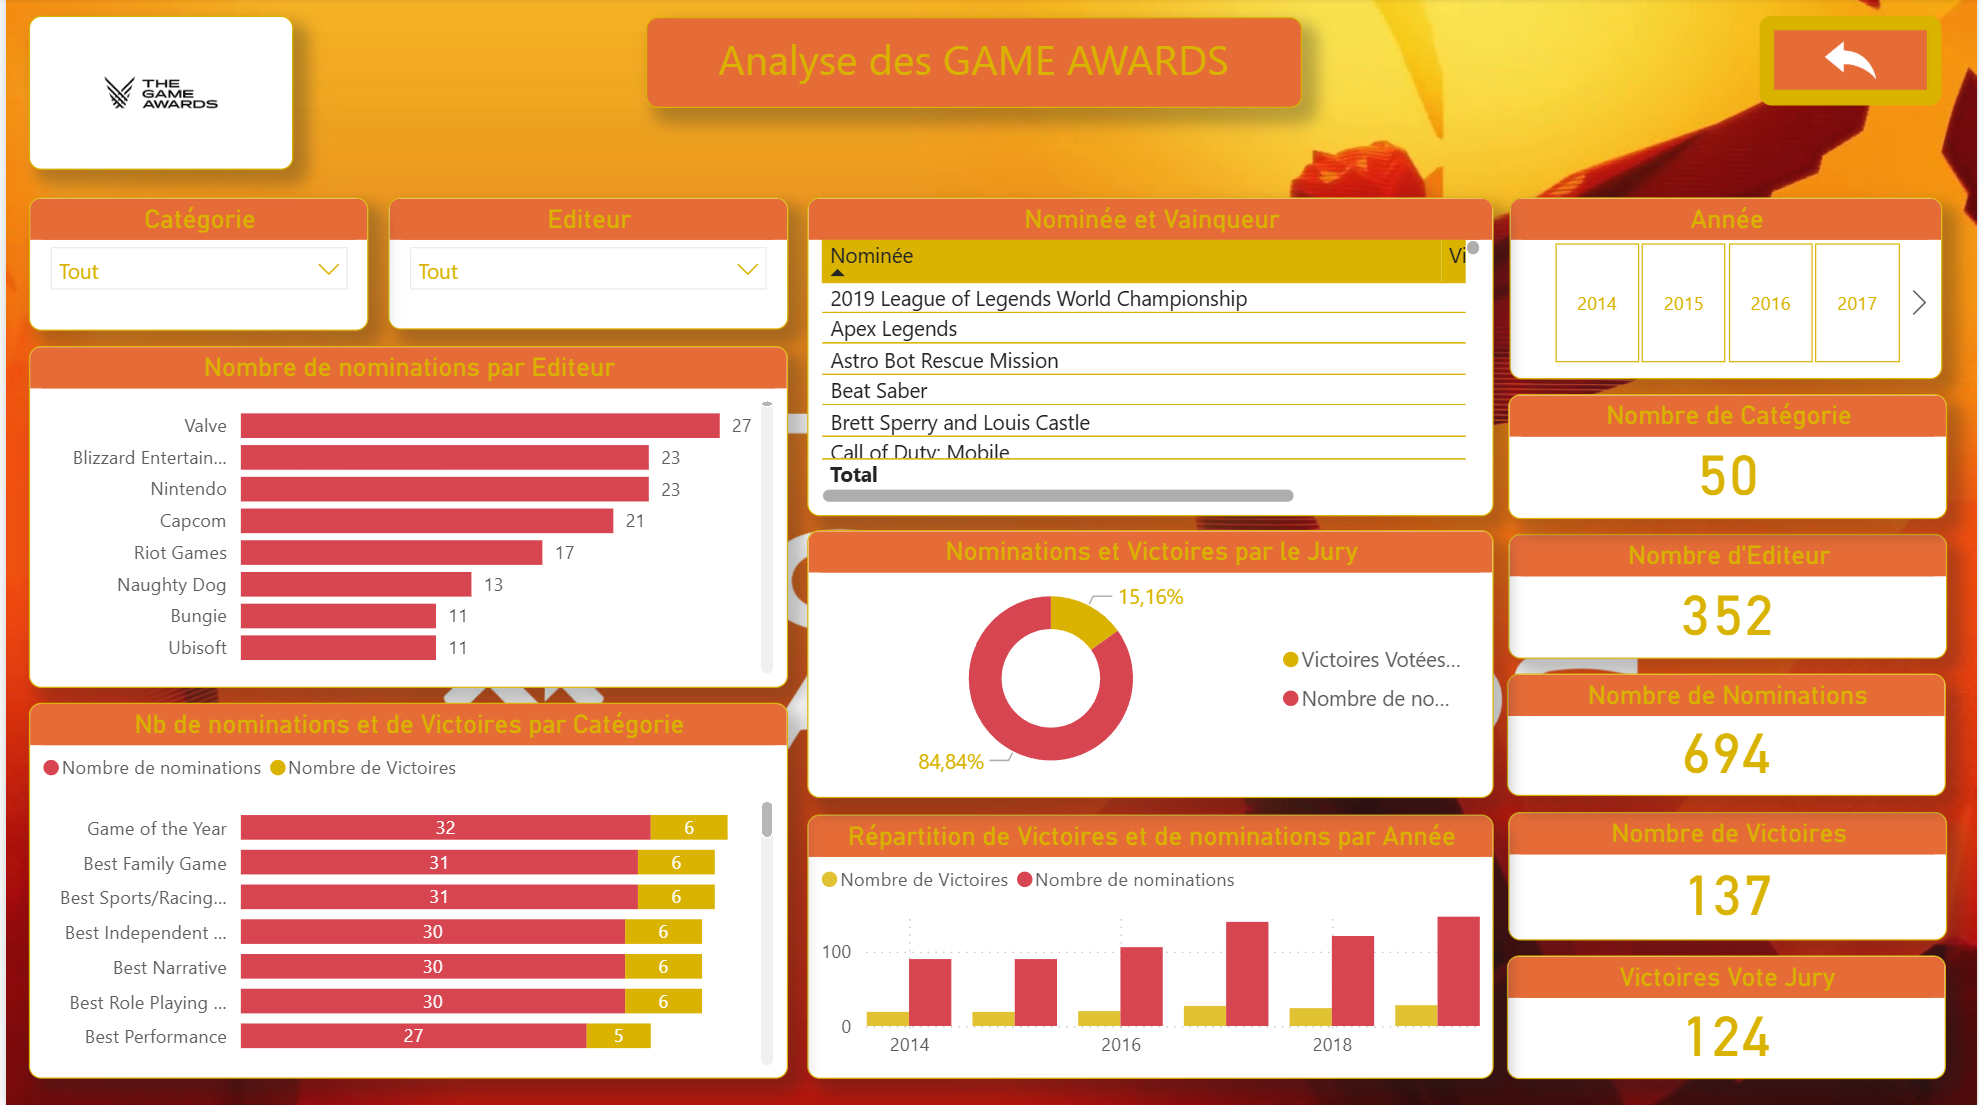

The dashboard page shown, as its layout file describes it:
{"tool":"powerbi","page":{"name":"Analyse des Game Awards","canvas":[1280,720],"ordinal":0},"visuals":[{"type":"card","title":"Total des Victoires","fields":{"Values":["Mesures clés.Nombre de Victoires"]},"box":[975.7,528.2,285.2,83.8],"z":0},{"type":"slicer","title":"Année","fields":{"Values":["Game Awards.year"]},"box":[976.6,129.5,281,118.5],"z":1000},{"type":"card","title":"Éditeurs Représentés","fields":{"Values":["Mesures clés.Nombre d'éditeurs"]},"box":[975.7,348.3,285.2,81.2],"z":2000},{"type":"card","title":"Nominations Totales","fields":{"Values":["Mesures clés.Nombre de nominations"]},"box":[974.9,439.1,285.2,79.5],"z":3000},{"type":"card","title":"Plébiscites du Jury","fields":{"Values":["Mesures clés.Victoires Votées par le Jury"]},"box":[974.3,621.5,284.9,80.1],"z":4000},{"type":"textbox","box":[415.7,12.2,425.8,58.8],"z":5000},{"type":"slicer","title":"Editeur","fields":{"Values":["Game Awards.company"]},"box":[248.4,129.8,259.5,86.2],"z":6000},{"type":"clusteredColumnChart","title":"Liste exhaustive des résultats","fields":{"Category":["Game Awards.Année"],"Y":["Mesures clés.Nombre de Victoires","Mesures clés.Nombre de nominations"]},"box":[520.1,530.2,446.1,171.3],"z":7000},{"type":"slicer","title":"Catégorie","fields":{"Values":["Game Awards.Catégorie"]},"box":[15.2,129.5,220.9,86.3],"z":8000},{"type":"barChart","title":"Palmarès des Éditeurs par Nominations","fields":{"Category":["Game Awards.Editeur"],"Y":["Mesures clés.Nombre de nominations"]},"box":[15.2,226.1,492.7,222],"z":9000},{"type":"barChart","title":"Performance par Catégorie","fields":{"Category":["Game Awards.Catégorie"],"Y":["Mesures clés.Nombre de nominations","Mesures clés.Nombre de Victoires"]},"box":[15.2,457.2,492.7,244.3],"z":10000},{"type":"image","box":[14.8,11.5,171.5,99.8],"z":11000},{"type":"tableEx","title":"Nominée et Vainqueur","fields":{"Values":["Game Awards.Nominée","Mesures clés.Victoires Votées par le Jury"]},"box":[520.5,129.5,446,207.3],"z":12000},{"type":"donutChart","title":"Nominations et Victoires par le Jury","fields":{"Y":["Mesures clés.Victoires Votées par le Jury","Mesures clés.Nombre de nominations"]},"box":[520.1,345.7,446.1,174.4],"z":13000},{"type":"card","title":"Total des Catégorie","fields":{"Values":["Mesures clés.Nombre de Catégorie"]},"box":[975.7,257.5,285.2,81.2],"z":14000},{"type":"image","box":[1182.4,11.7,74.7,49.5],"z":15000}]}

Visuals, with their boxes in screenshot pixels (x1, y1, x2, y2), scaled from the page's 1280x720 canvas onto the 1979x1105 screenshot:
"Total des Victoires" card: 1509,811,1949,939
"Année" slicer: 1510,199,1944,381
"Éditeurs Représentés" card: 1509,535,1949,659
"Nominations Totales" card: 1507,674,1948,796
"Plébiscites du Jury" card: 1506,954,1947,1077
textbox: 643,19,1301,109
"Editeur" slicer: 384,199,785,332
"Liste exhaustive des résultats" clusteredColumnChart: 804,814,1494,1077
"Catégorie" slicer: 24,199,365,331
"Palmarès des Éditeurs par Nominations" barChart: 24,347,785,688
"Performance par Catégorie" barChart: 24,702,785,1077
image: 23,18,288,171
"Nominée et Vainqueur" tableEx: 805,199,1494,517
"Nominations et Victoires par le Jury" donutChart: 804,531,1494,798
"Total des Catégorie" card: 1509,395,1949,520
image: 1828,18,1944,94
